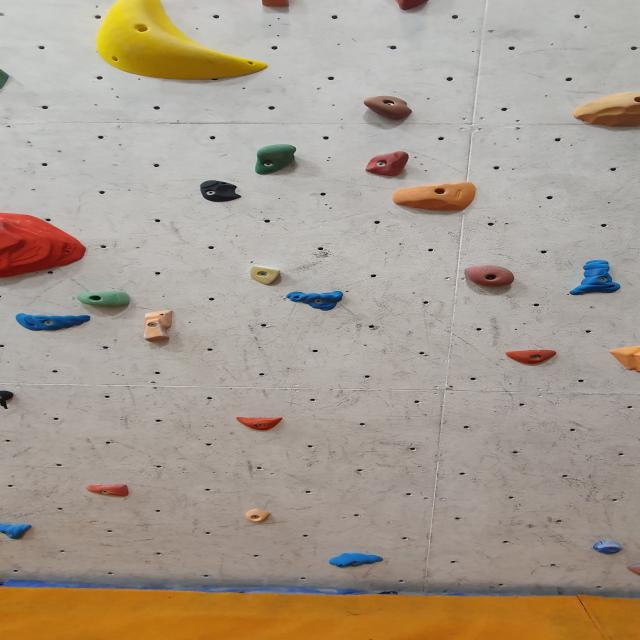Crimp: (0, 212, 89, 280), (12, 313, 95, 332), (284, 293, 345, 312), (502, 349, 560, 366), (328, 553, 387, 569), (233, 417, 288, 432), (248, 267, 286, 287), (83, 484, 133, 497), (0, 522, 35, 539), (244, 510, 275, 525), (589, 542, 622, 556), (625, 562, 640, 578)
Jug: (254, 143, 303, 175), (360, 96, 417, 122), (362, 153, 412, 179), (462, 266, 518, 288), (76, 290, 134, 307), (0, 65, 14, 97)
Pinch: (567, 255, 624, 295), (133, 308, 179, 348), (0, 390, 18, 402)
Sloper: (90, 1, 268, 82), (389, 184, 481, 214), (569, 92, 640, 128), (190, 178, 248, 204), (607, 346, 640, 372)
